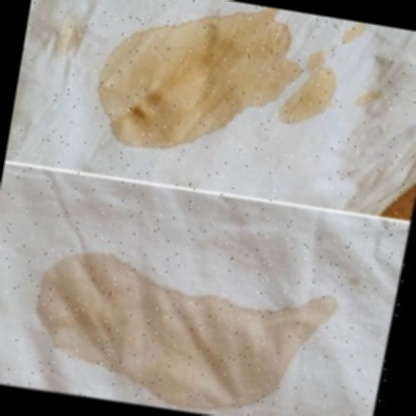coffee: (48, 276, 306, 396), (115, 37, 226, 124), (222, 19, 291, 99)
